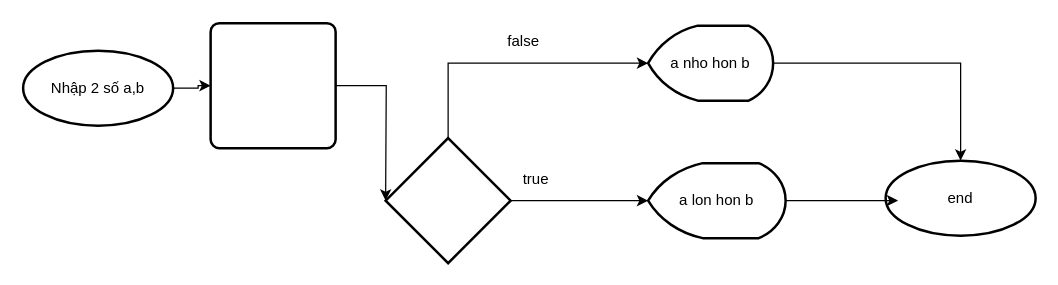
Image size: 1058x285. Some labels were removed from this diagram. Here are the shapes that lost their labels. From the top down, the centre of each, then its label:
At (272,85): "int a,b;".
At (447,200): "a>b".
